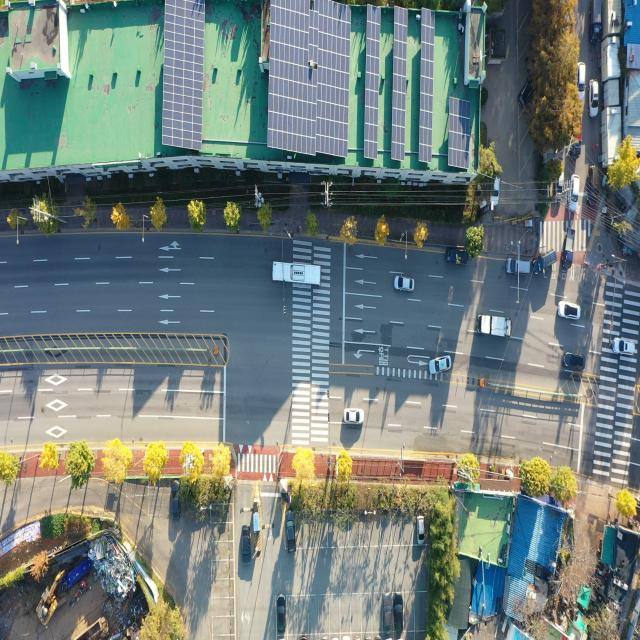car: (533, 248, 557, 277), (518, 77, 537, 106), (574, 60, 586, 105), (170, 474, 182, 519), (284, 509, 296, 551), (612, 335, 635, 356), (428, 356, 452, 376), (588, 164, 599, 207), (558, 302, 582, 321), (568, 175, 580, 212), (588, 81, 600, 117), (506, 258, 530, 276), (394, 592, 404, 634), (382, 592, 392, 633), (563, 353, 585, 369), (278, 596, 286, 637), (394, 276, 414, 292), (344, 410, 364, 426), (241, 525, 250, 560), (490, 178, 501, 206), (417, 516, 425, 545)
large_bus: (271, 262, 323, 288)
medium_truck: (479, 312, 513, 338)
small_truck: (590, 0, 604, 46), (562, 226, 577, 268), (446, 248, 470, 265)
